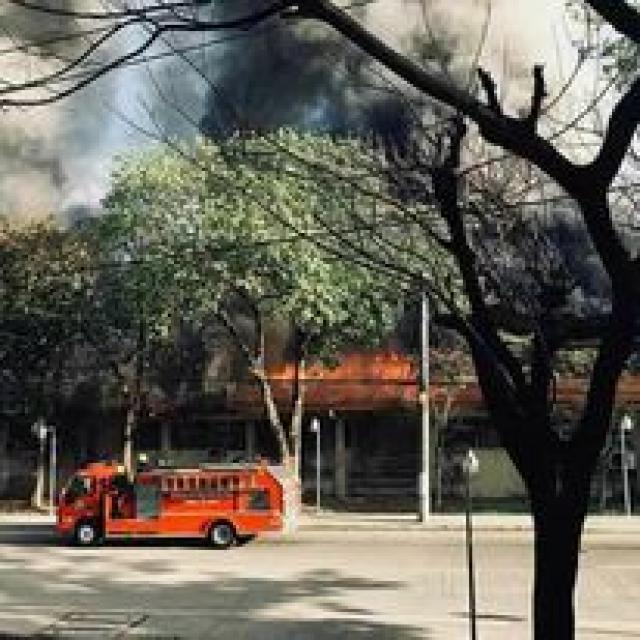Fire: (268, 342, 414, 392)
Smoke: (191, 0, 640, 348), (0, 0, 126, 231)
